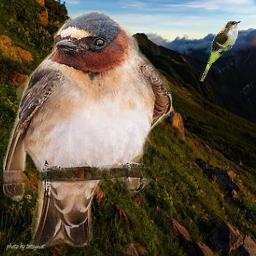Cuckoo: (200, 20, 242, 82)
Swallow: (3, 10, 172, 247)
